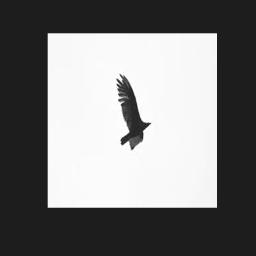Crow: (116, 72, 152, 150)
